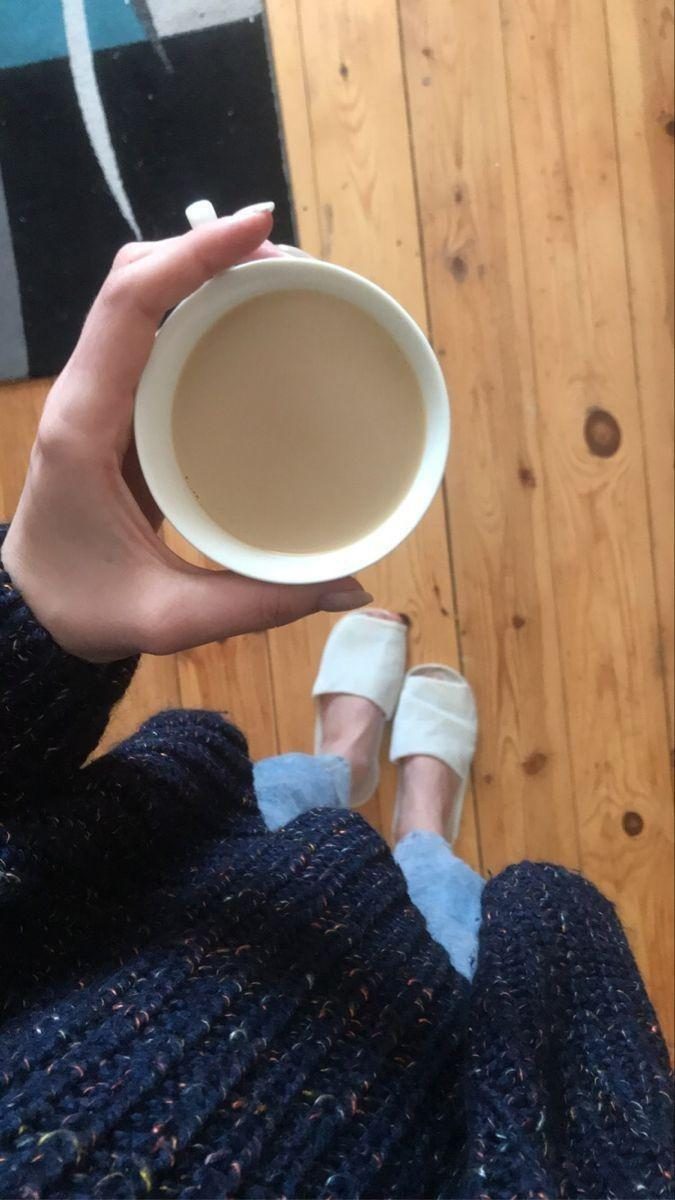cup-handle: (128, 204, 455, 589)
